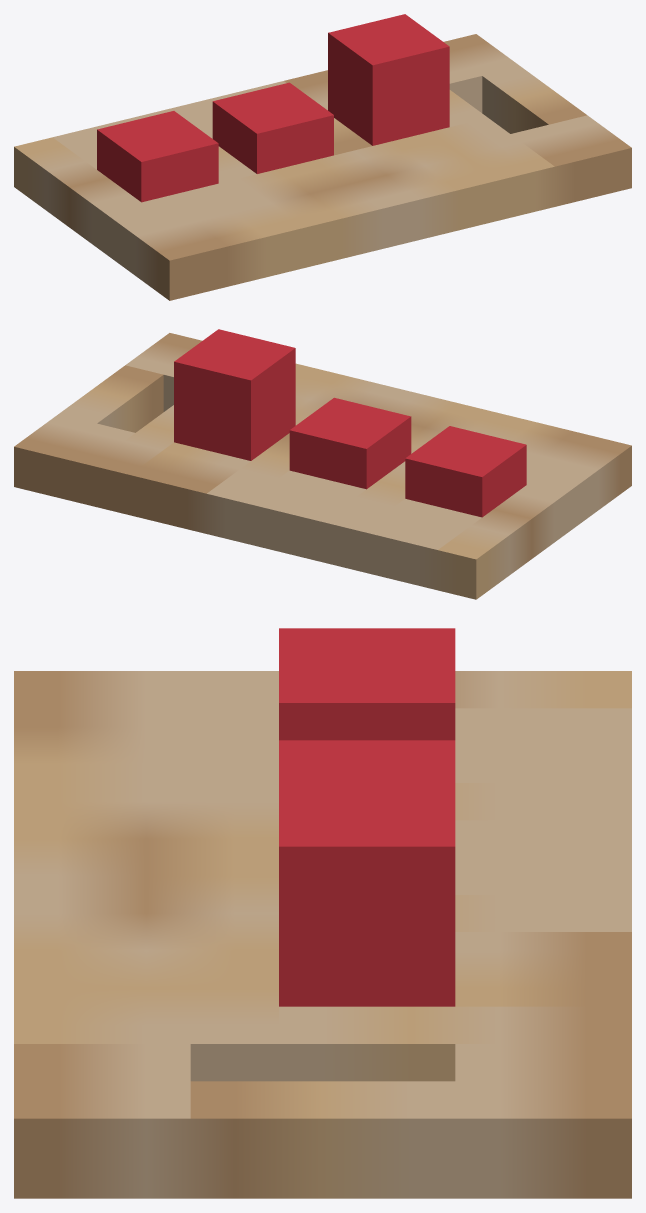
The model's file is Chopping_Board_00.fbx.
3 views of the same model, one above another, from view 1: azimuth 30°, elevation 25°; view 2: azimuth 150°, elevation 25°; view 3: azimuth 270°, elevation 25° (orthographic). The views are drawn at different scales.
Parts seen in each view (by area): view 1: Chopping_Board_00; view 2: Chopping_Board_00; view 3: Chopping_Board_00.
Part boxes in pixels (left/top/right/bottom): Chopping_Board_00: left=14, top=14, right=631, bottom=300; Chopping_Board_00: left=14, top=329, right=631, bottom=599; Chopping_Board_00: left=14, top=628, right=631, bottom=1198.
Bounding box in the file's own units: 60 × 15 × 35.
